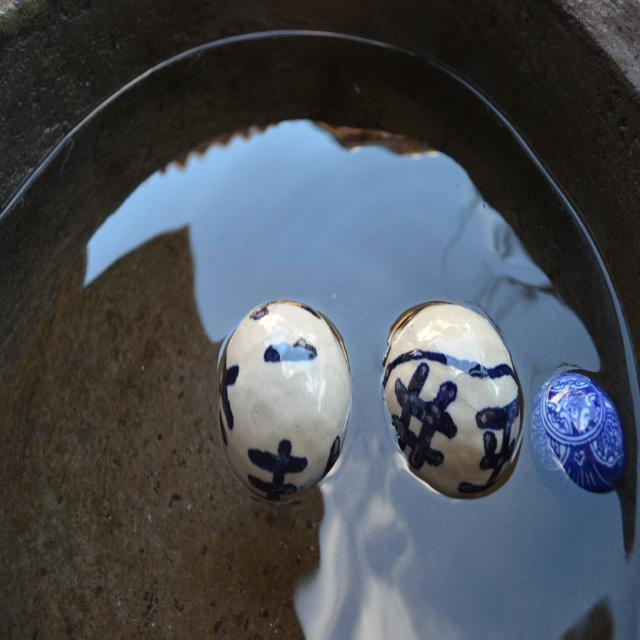ball: (383, 299, 531, 497), (212, 301, 356, 496), (529, 362, 627, 505)
